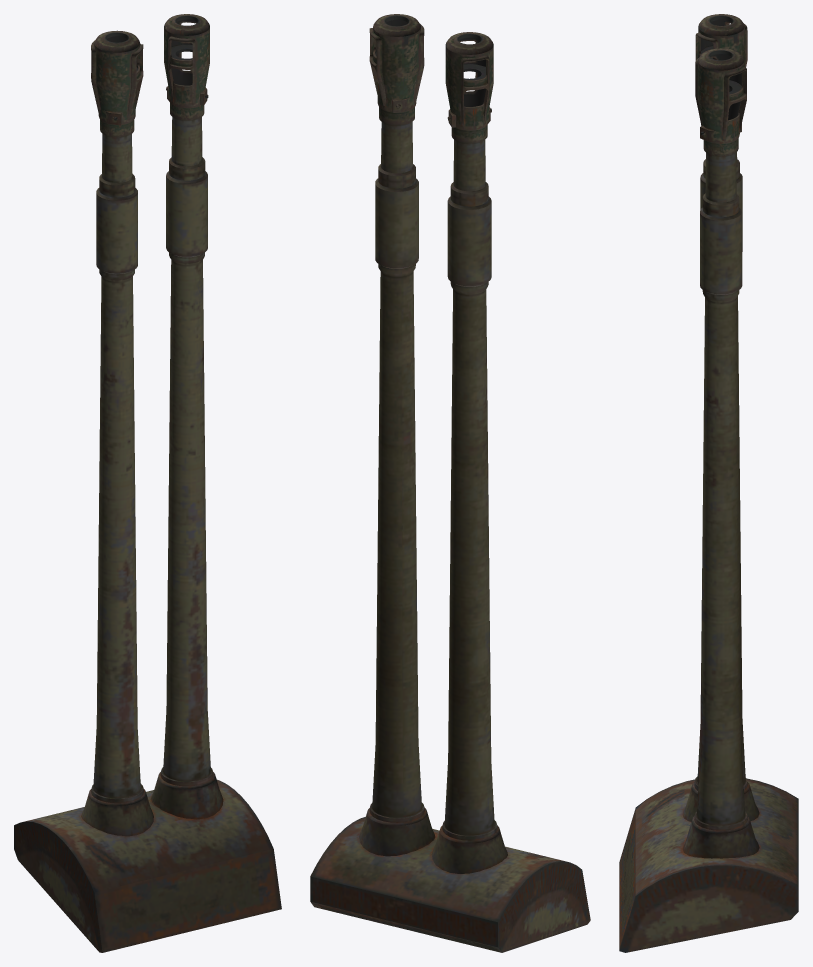
File: Gun_10.glb
3 views of the same model, side by side, from view 1: azimuth 30°, elevation 25°; view 2: azimuth 150°, elevation 25°; view 3: azimuth 270°, elevation 25° (orthographic). The views are drawn at different scales.
Parts seen in each view (by area): view 1: set_0_group_0; view 2: set_0_group_0; view 3: set_0_group_0.
Part boxes in pixels (left/top/right/bottom): set_0_group_0: left=14, top=14, right=281, bottom=952; set_0_group_0: left=310, top=14, right=590, bottom=952; set_0_group_0: left=619, top=14, right=798, bottom=952.
Size of the model in its own units: 0.9947 by 4.58 by 0.8502.
Materials: 1 (1 with a texture image).
